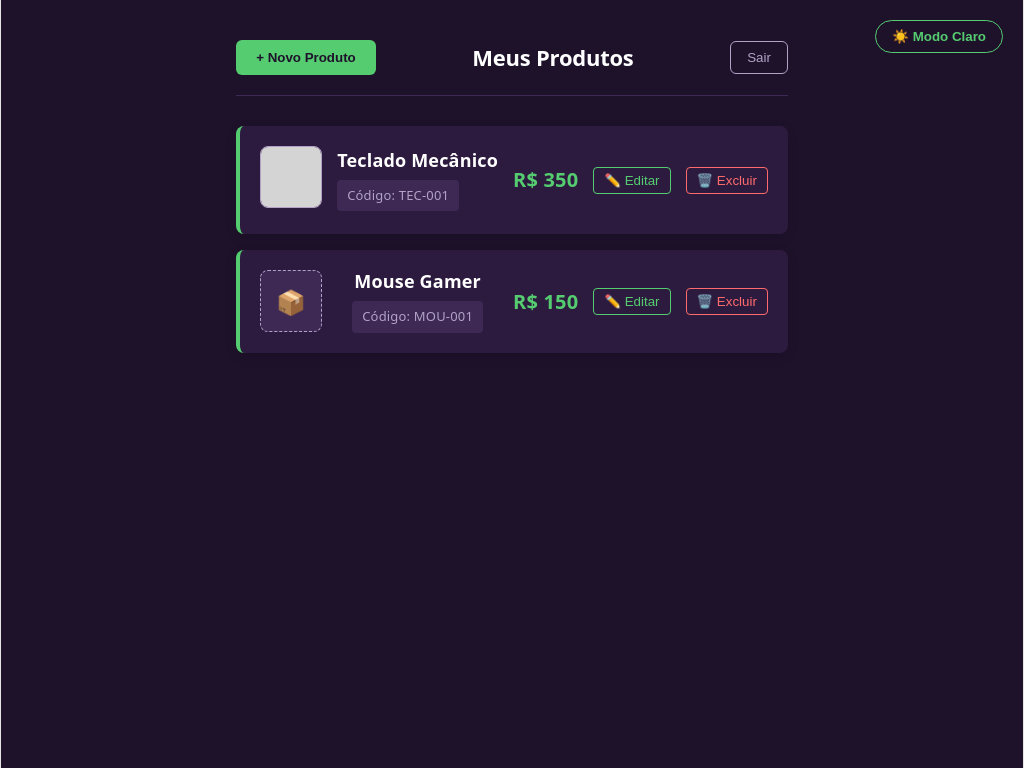
Test: Tela de Listagem de Produtos › deve excluir o produto e removê-lo da tela quando o usuário confirmar
Expected: the text "Teclado Mecânico" is shown, [337,149,498,172]
What coordinates should you click on to do the following:
click the button with aria-label "Excluir Teclado Mecânico"
I would click on:
 (727, 180)
Its box is [686,167,768,194].
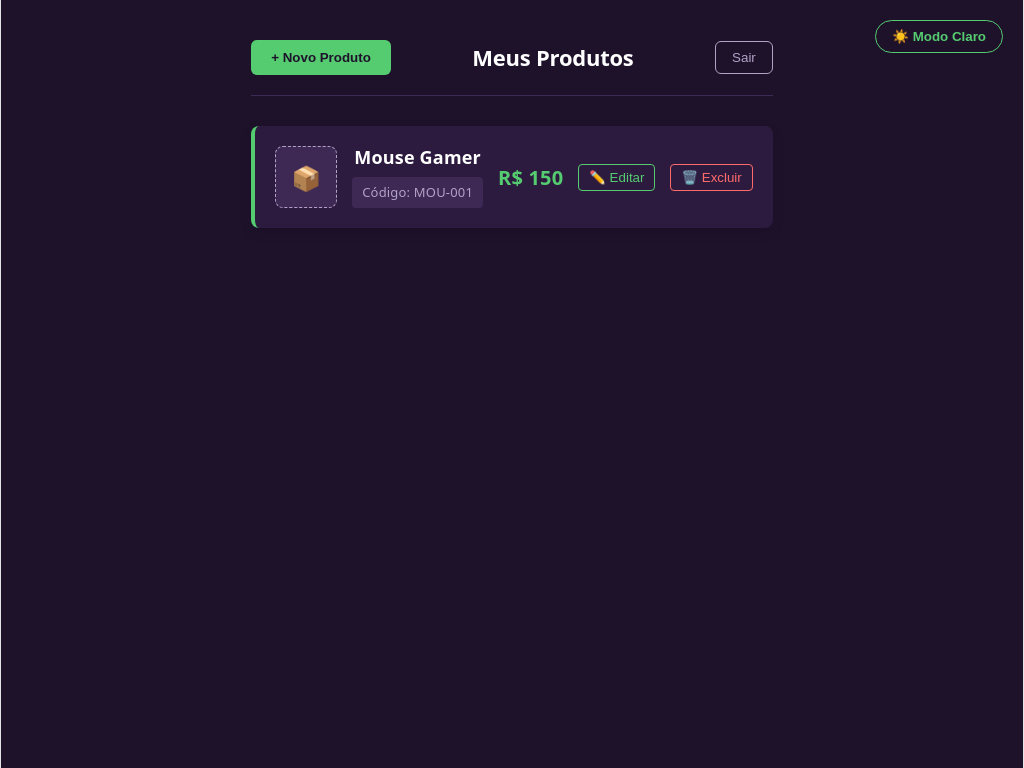
Expected: the text "Mouse Gamer" is shown, [352,146,483,169]
Result: the text "Teclado Mecânico" is gone
